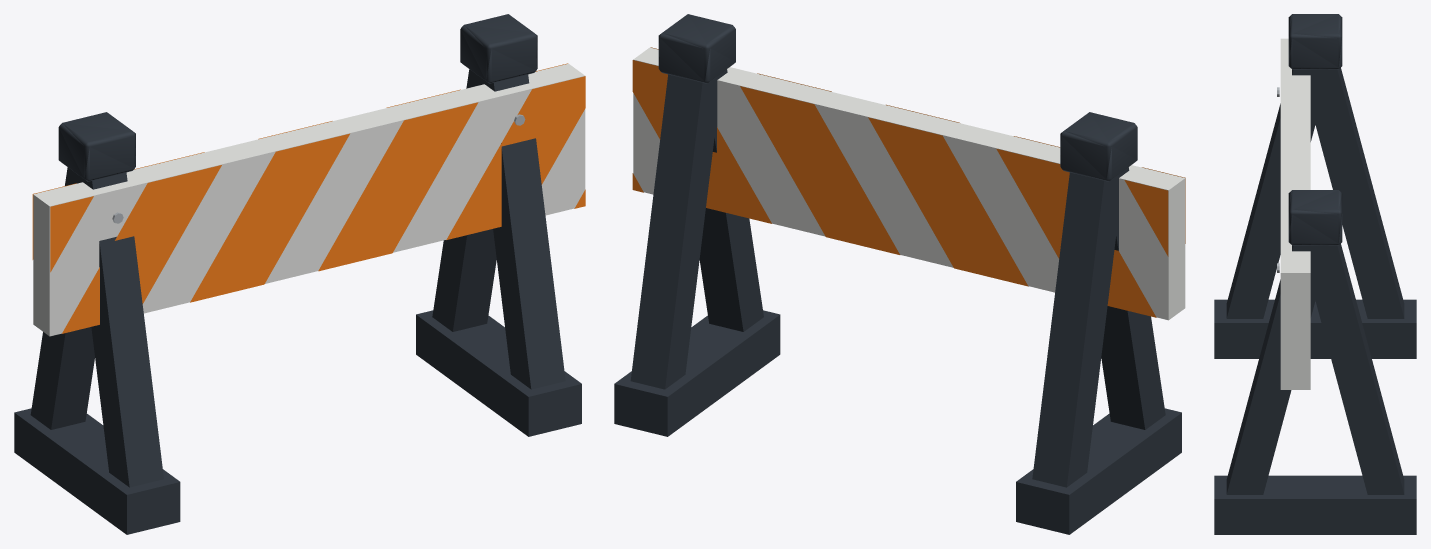
Rendered from Barrier.fbx.
3 renders of one model, left to right at view 1: azimuth 30°, elevation 25°; view 2: azimuth 150°, elevation 25°; view 3: azimuth 270°, elevation 25°, orthographic. The views are drawn at different scales.
Parts seen in each view (by area): view 1: Asset_Barrier; view 2: Asset_Barrier; view 3: Asset_Barrier.
Part boxes in pixels (box(x1,y1,x2,y2)): Asset_Barrier: box(14, 14, 585, 534); Asset_Barrier: box(614, 14, 1185, 534); Asset_Barrier: box(1214, 14, 1416, 534).
Bounding box in the file's own units: 3.22 × 2.07 × 1.17.
